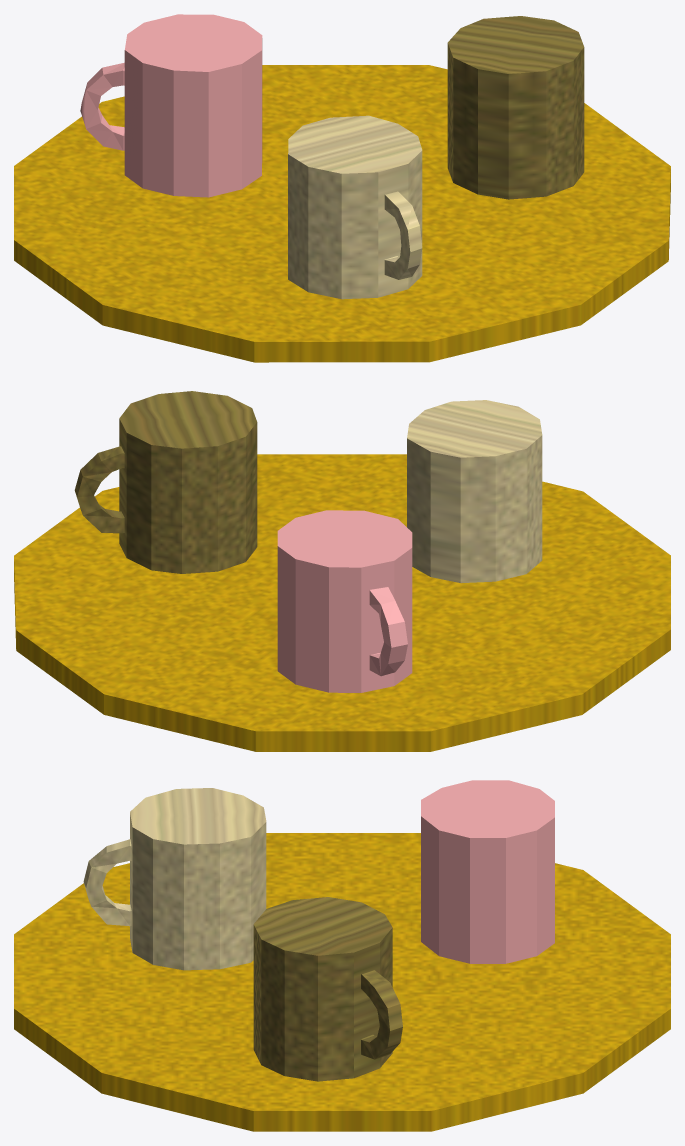
Rendered from CofTray.glb.
3 renders of one model, top to bottom at view 1: azimuth 30°, elevation 25°; view 2: azimuth 150°, elevation 25°; view 3: azimuth 270°, elevation 25°, orthographic.
Visible parts, largest first — view 1: CofTray; view 2: CofTray; view 3: CofTray.
Part boxes in pixels (x1,y1,x2,y2): CofTray: (14, 14, 670, 362); CofTray: (14, 391, 670, 751); CofTray: (14, 780, 670, 1131).
Bounding box in the file's own units: 134 × 32.93 × 134.
Materials: 1 (1 with a texture image).
